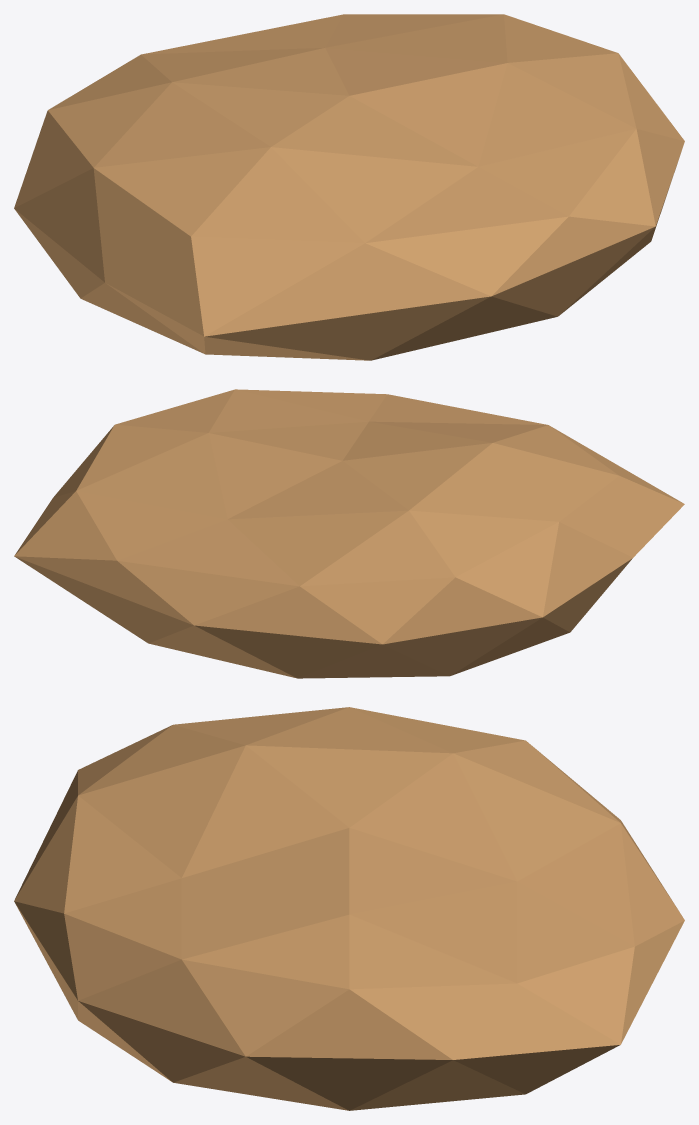
File: Rock Orange 003.fbx
The picture shows the model from 3 angles, top to bottom: view 1: azimuth 30°, elevation 25°; view 2: azimuth 150°, elevation 25°; view 3: azimuth 270°, elevation 25°; orthographic projection. The views are drawn at different scales.
Parts seen in each view (by area): view 1: Rock 003.006; view 2: Rock 003.006; view 3: Rock 003.006.
Boxes of the visible parts, x1,y1,x2,y2 form: Rock 003.006: (14,14,684,360); Rock 003.006: (14,389,684,678); Rock 003.006: (14,707,684,1110).
Size of the model in its own units: 359 by 104 by 339.
